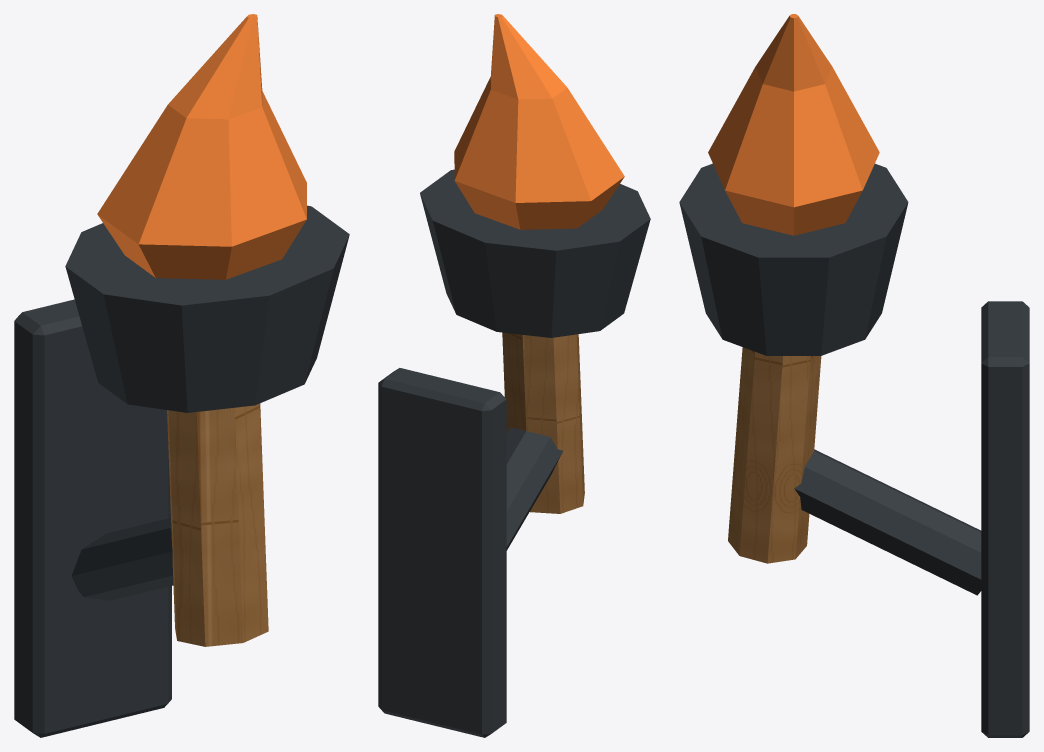
File: Furn_WallTorch.fbx
3 renders of one model, left to right at view 1: azimuth 30°, elevation 25°; view 2: azimuth 150°, elevation 25°; view 3: azimuth 270°, elevation 25°, orthographic. The views are drawn at different scales.
Parts seen in each view (by area): view 1: Furn_WallTorch_Mesh; view 2: Furn_WallTorch_Mesh; view 3: Furn_WallTorch_Mesh.
Part boxes in pixels (box(x1,y1,x2,y2)): Furn_WallTorch_Mesh: box(14, 14, 349, 737); Furn_WallTorch_Mesh: box(378, 14, 650, 737); Furn_WallTorch_Mesh: box(679, 14, 1029, 737).
Size of the model in its own units: 0.3 by 0.9 by 0.4.
3 materials, 1 textured.
